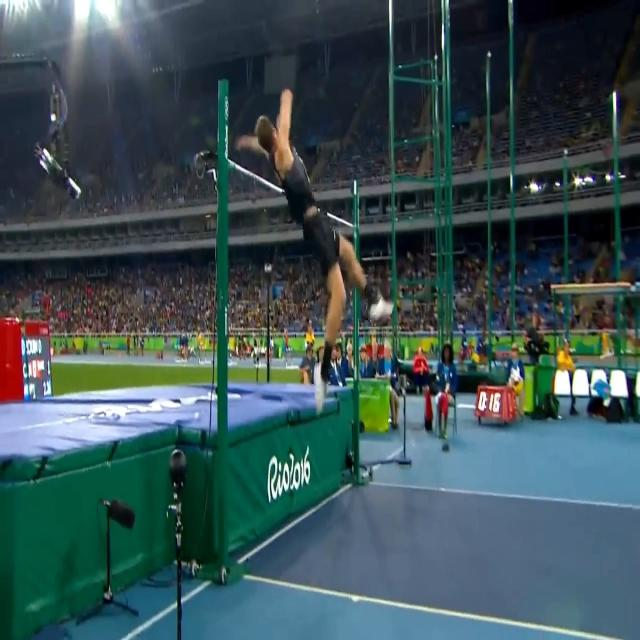jump: (234, 86, 395, 416)
